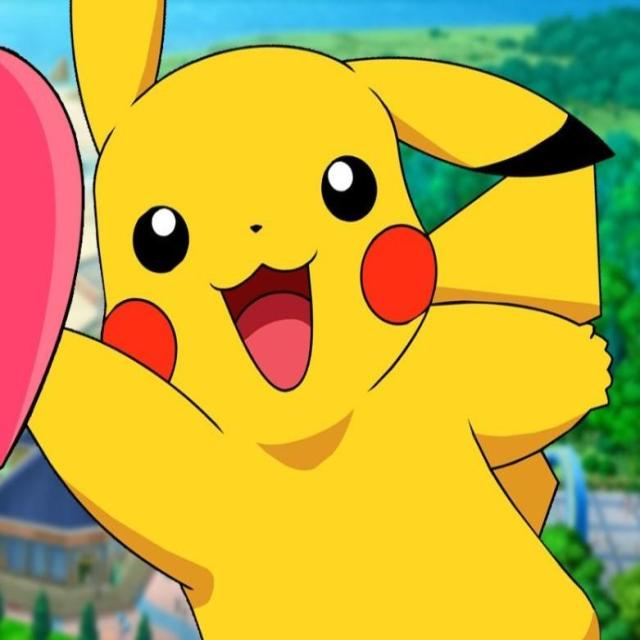pikachu: (30, 4, 614, 640)
